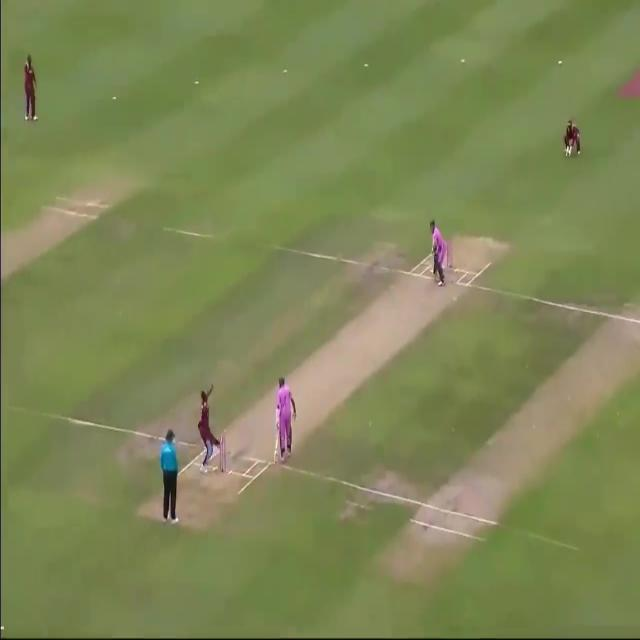Ball: (266, 374, 301, 464), (419, 213, 456, 288)
Fielder: (185, 377, 227, 475), (558, 116, 584, 161), (21, 54, 38, 122)
Umpire: (151, 424, 195, 525)
